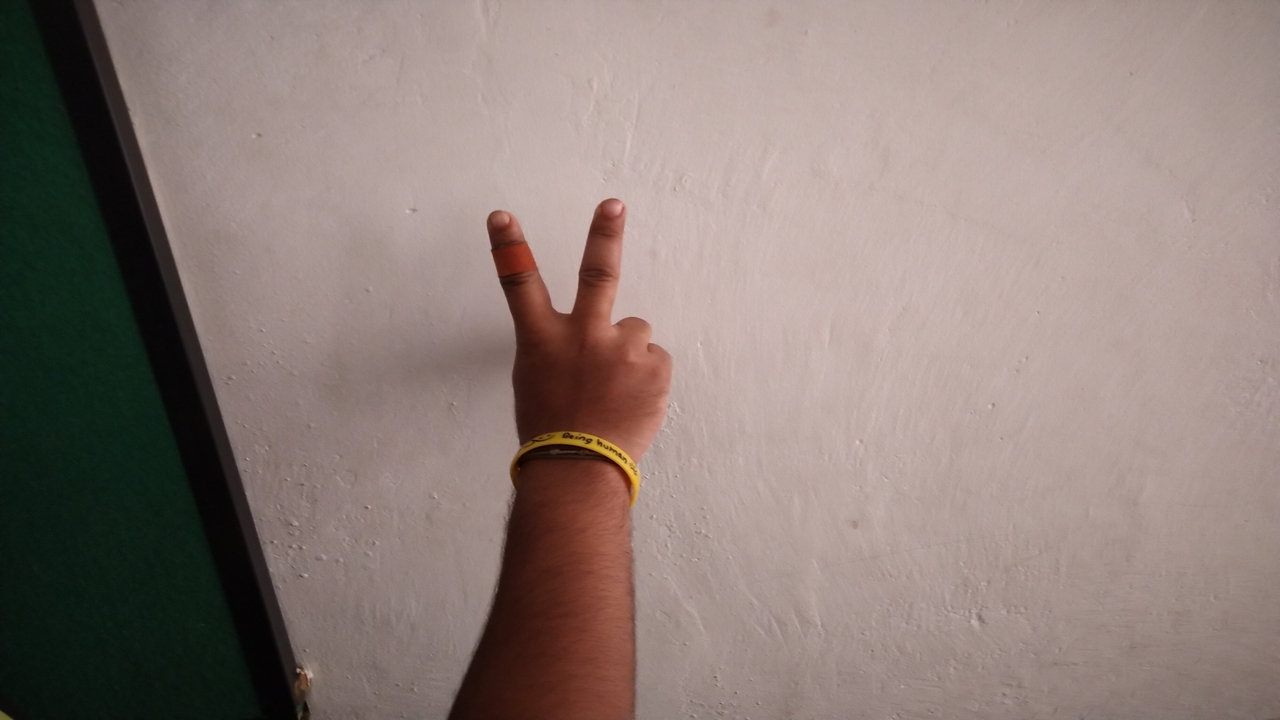fingertip: (476, 198, 530, 248), (580, 184, 634, 230)
